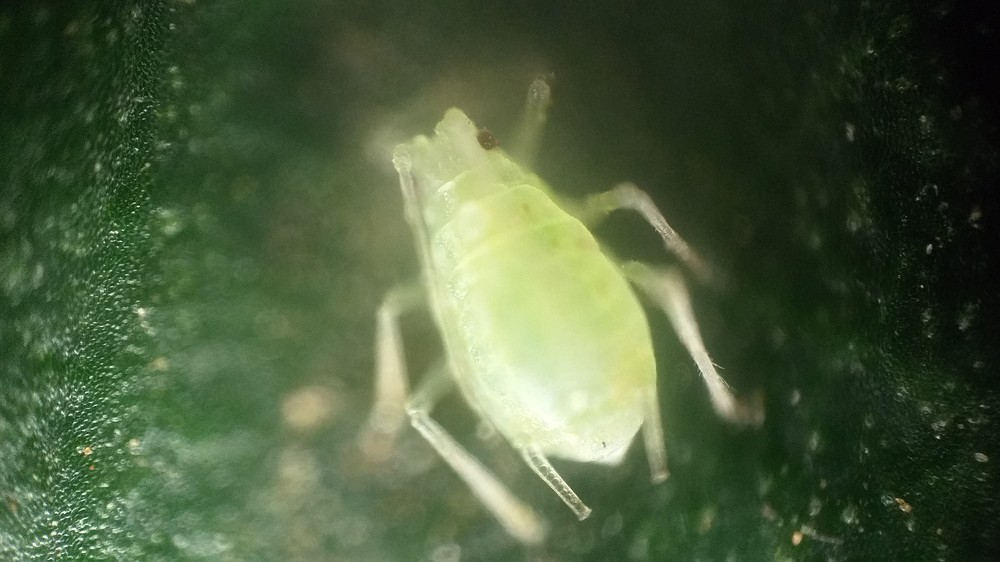Pulgon: (299, 63, 775, 538)
